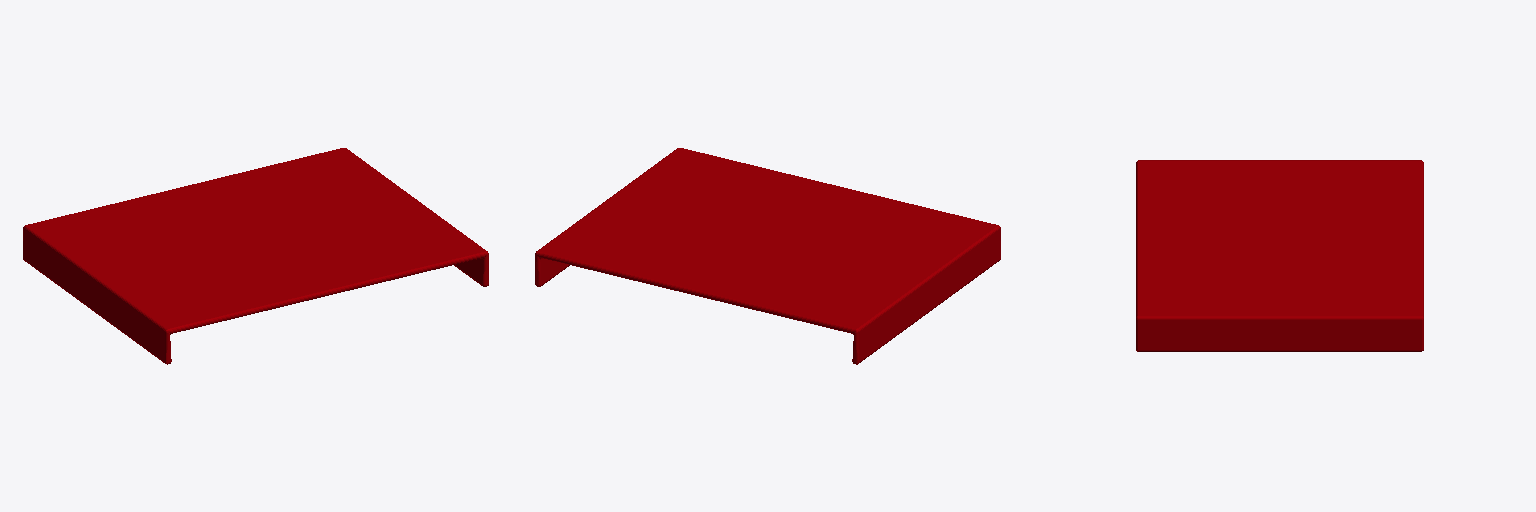
File: RedSheet.obj
3 renders of one model, left to right at view 1: azimuth 30°, elevation 25°; view 2: azimuth 150°, elevation 25°; view 3: azimuth 270°, elevation 25°, orthographic.
Visible parts, largest first — view 1: Red_Sheet_Cube.003; view 2: Red_Sheet_Cube.003; view 3: Red_Sheet_Cube.003.
Boxes of the visible parts, x1=… form: Red_Sheet_Cube.003: x1=23, y1=148, x2=488, y2=364; Red_Sheet_Cube.003: x1=535, y1=148, x2=1000, y2=364; Red_Sheet_Cube.003: x1=1136, y1=160, x2=1423, y2=351.
Bounding box in the file's own units: 0.9014 × 0.0941 × 0.6945.